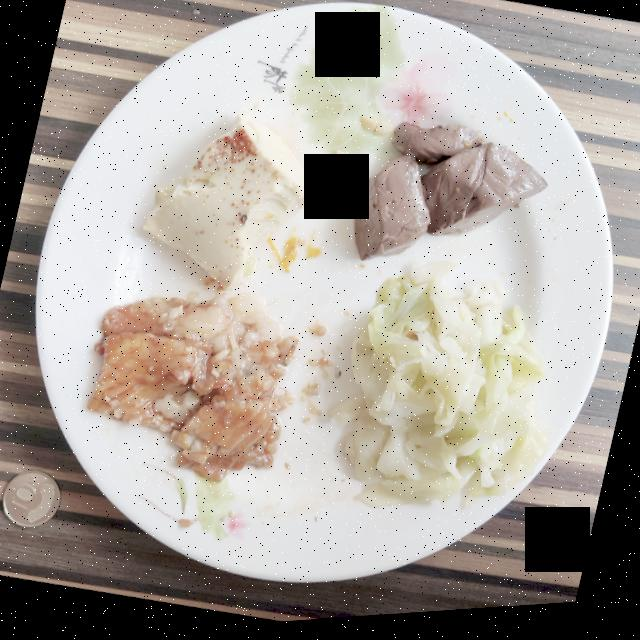Kabayaki sea bream fillet: (86, 296, 298, 484)
cabbage: (328, 267, 546, 513)
coin: (1, 471, 59, 527)
pig blood curd: (353, 127, 545, 265)
